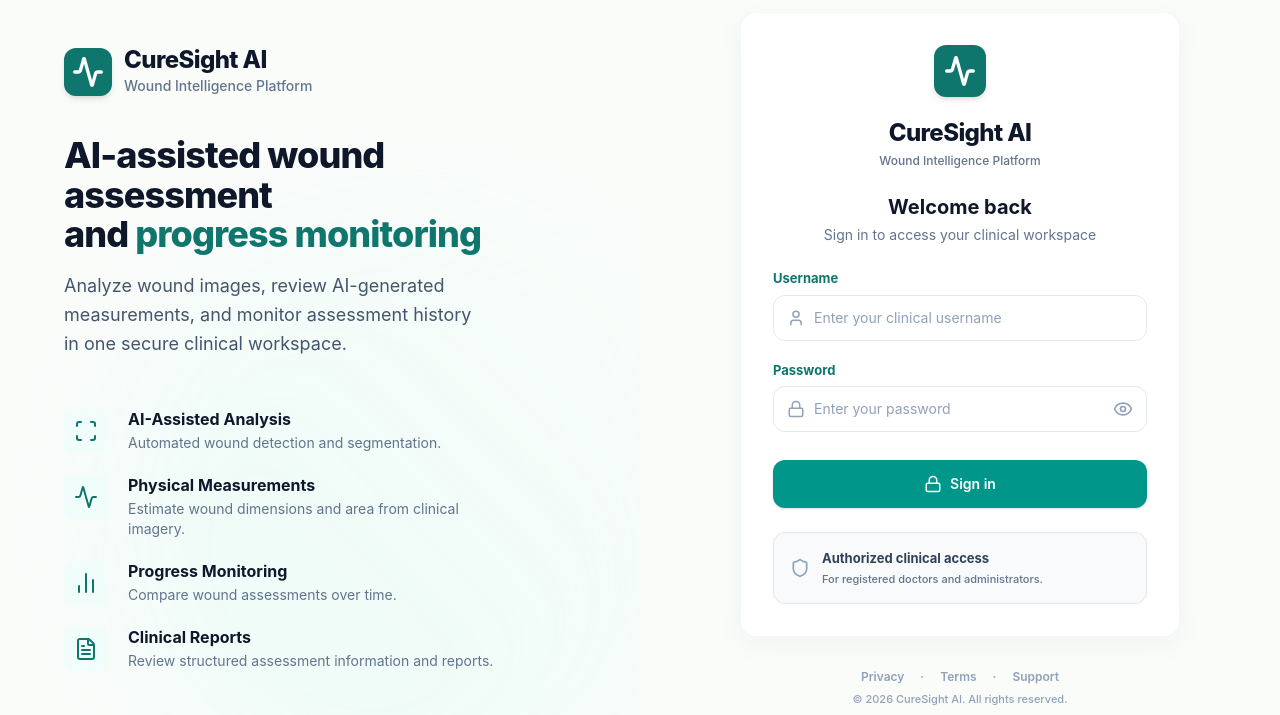
Login Flow & Error Handling › 4. Correctly handles HTTP 404 Endpoint Not Found
In the field with placeholder "Enter your clinical username": (960, 318) x1=773 y1=295 x2=1147 y2=341, type "user"
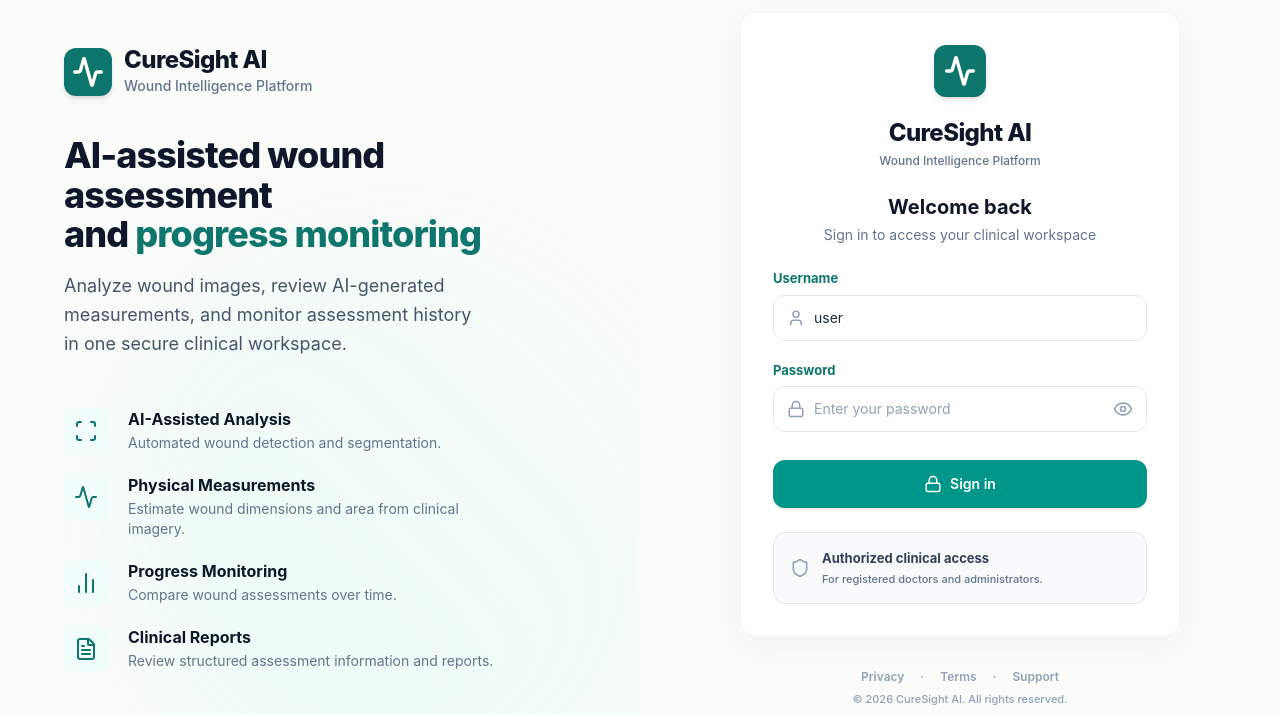
In the password field with placeholder "Enter your password": (960, 409) x1=773 y1=386 x2=1147 y2=432, type "pass"
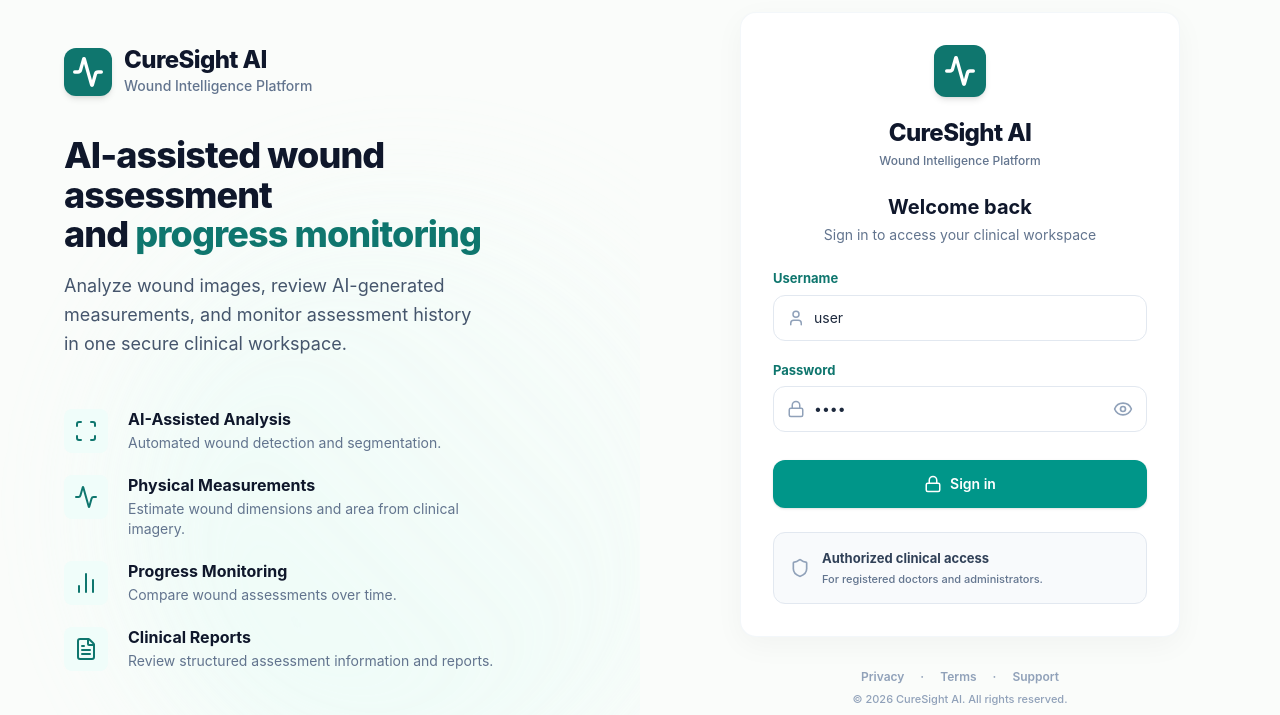
Click the button "Sign in": (960, 484) x1=773 y1=460 x2=1147 y2=508
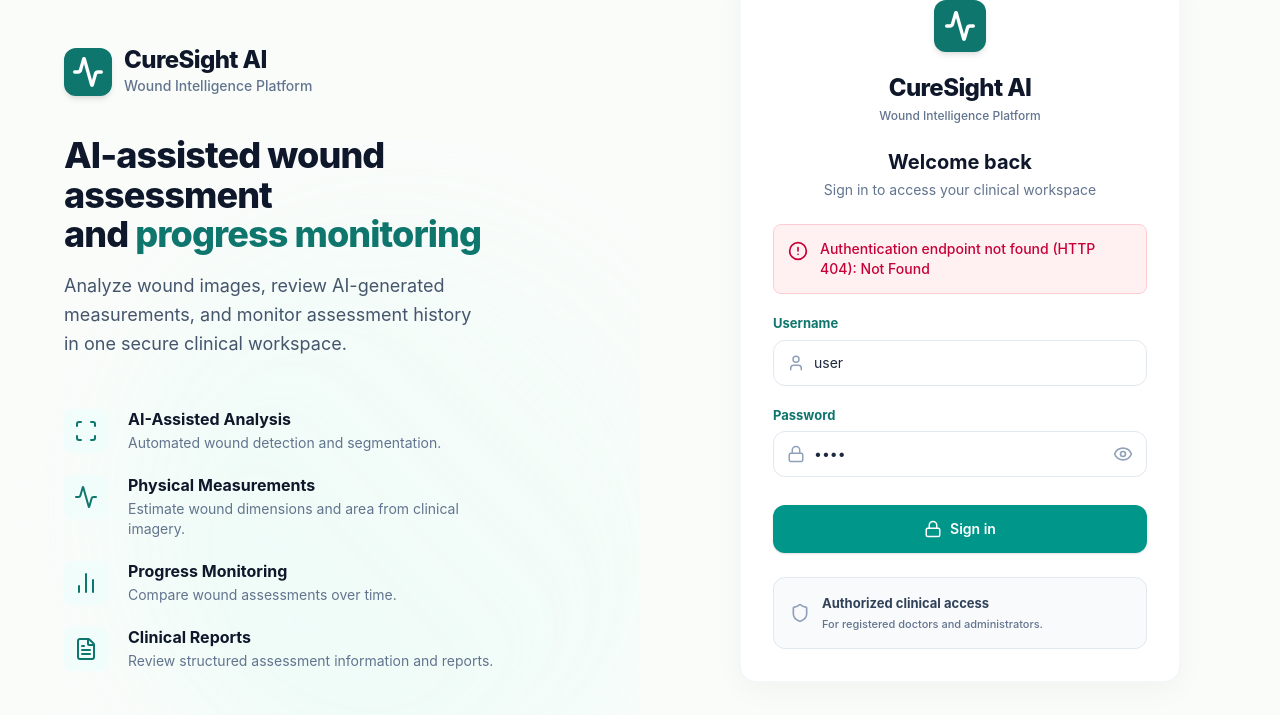
Expected: the text "Authentication endpoint not found (HTTP 404): Not Found" is shown, x1=820 y1=239 x2=1132 y2=279
